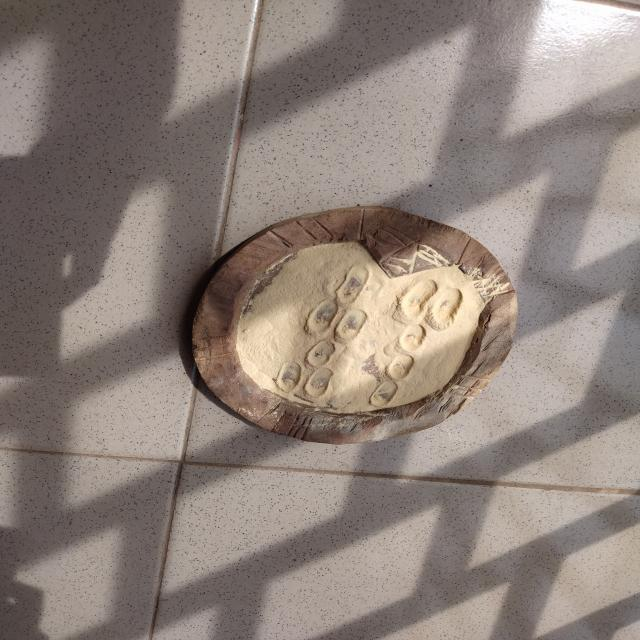double: (395, 277, 467, 322), (306, 299, 372, 340), (276, 361, 338, 402)
single: (334, 264, 373, 306), (394, 322, 432, 354), (303, 338, 342, 368), (382, 351, 418, 382), (369, 380, 401, 408)
